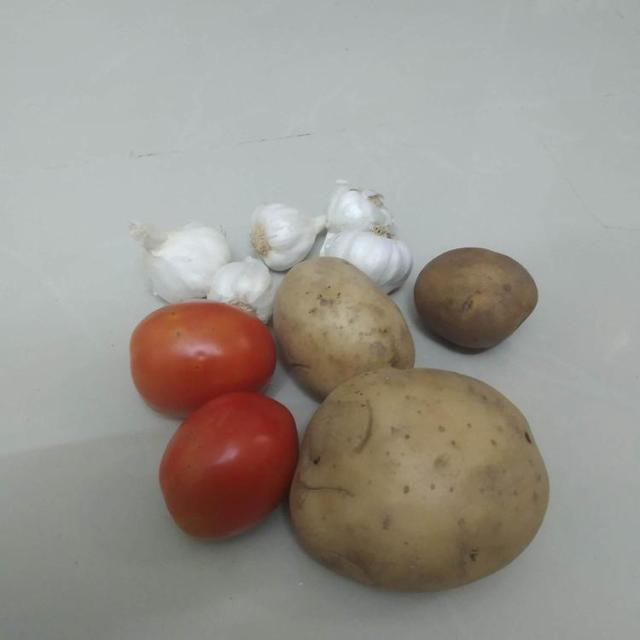Organik: (292, 380, 558, 590), (157, 390, 298, 547), (276, 260, 419, 385), (127, 302, 276, 415), (412, 246, 541, 354), (128, 215, 238, 302), (248, 203, 330, 275), (318, 186, 410, 234)
